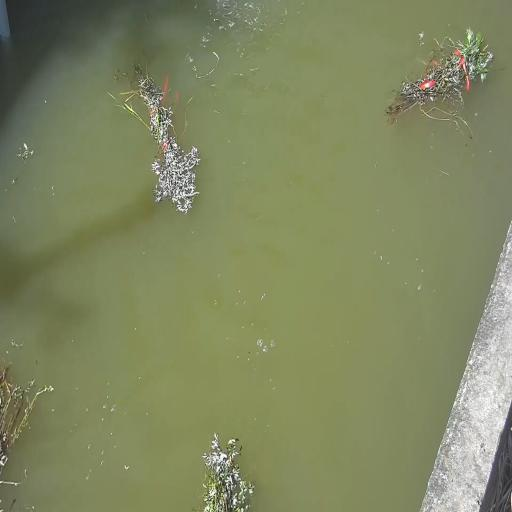twig: (112, 54, 201, 214), (385, 26, 498, 137), (0, 352, 54, 502), (195, 431, 255, 511), (7, 143, 33, 191)
